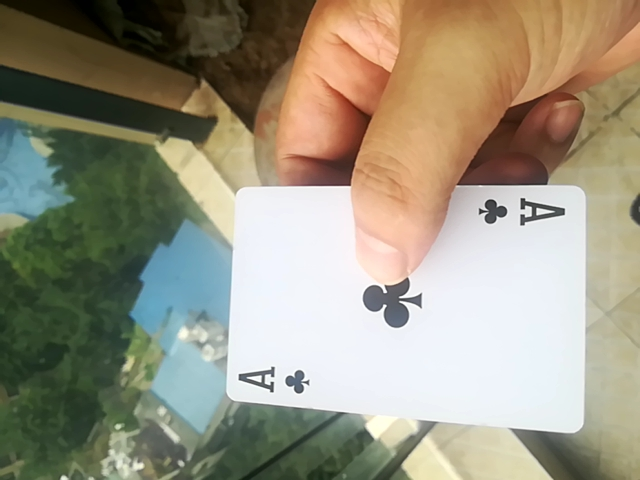mh a: (214, 175, 595, 433)
